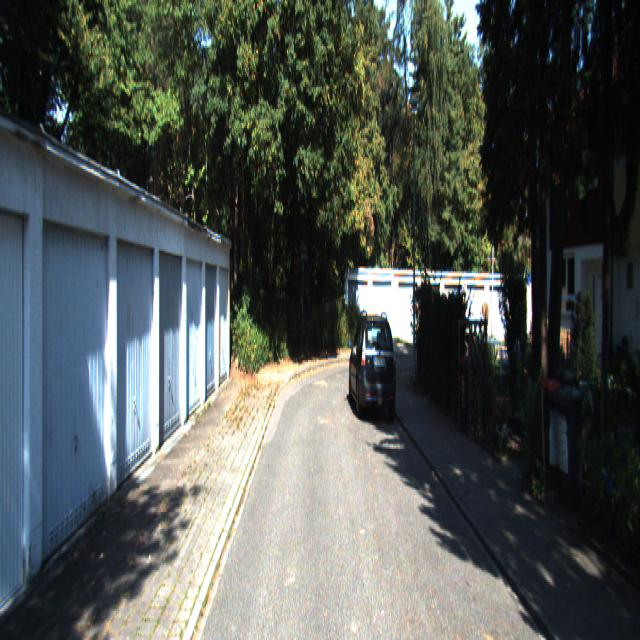Car: (348, 310, 397, 417)
